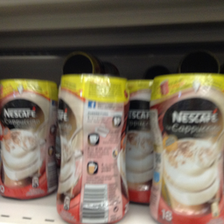coffee: (149, 73, 222, 224), (59, 73, 129, 224), (1, 79, 54, 197)
